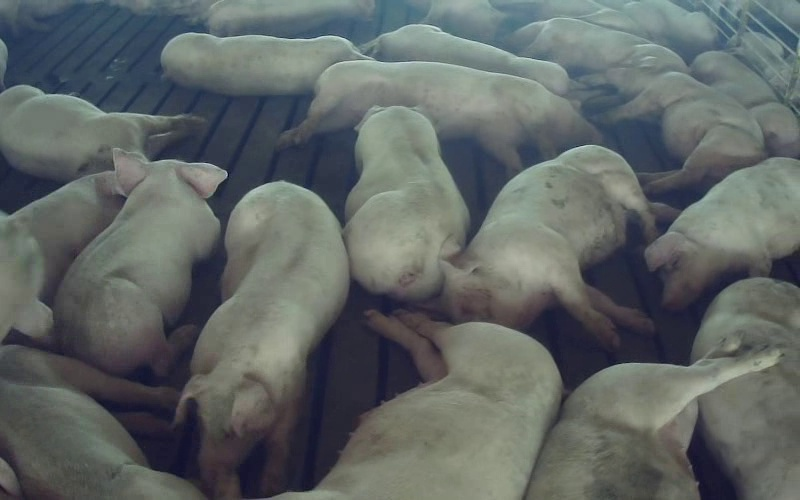pig: (175, 182, 347, 497), (279, 310, 561, 499), (437, 145, 676, 347), (527, 329, 780, 499), (54, 150, 226, 375), (278, 60, 600, 172), (343, 107, 469, 301), (645, 158, 799, 309), (594, 67, 764, 193), (362, 24, 568, 95), (12, 171, 124, 299), (161, 33, 367, 95), (690, 51, 799, 157), (507, 18, 688, 72)
